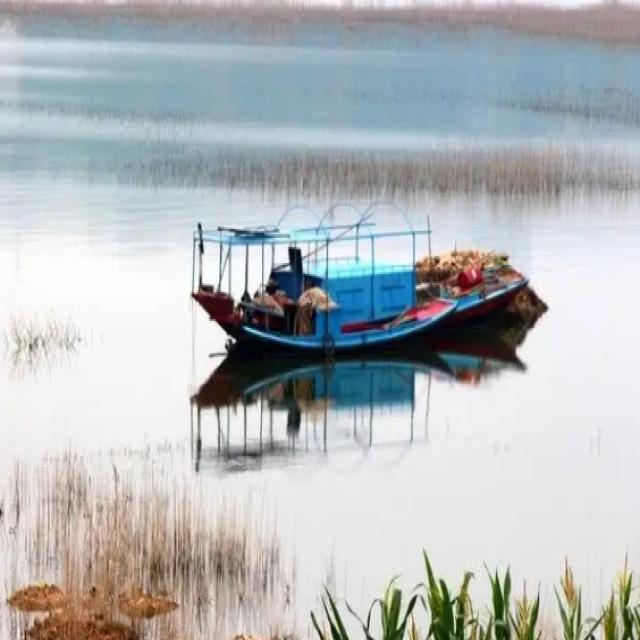fishing boat: (187, 203, 534, 356)
